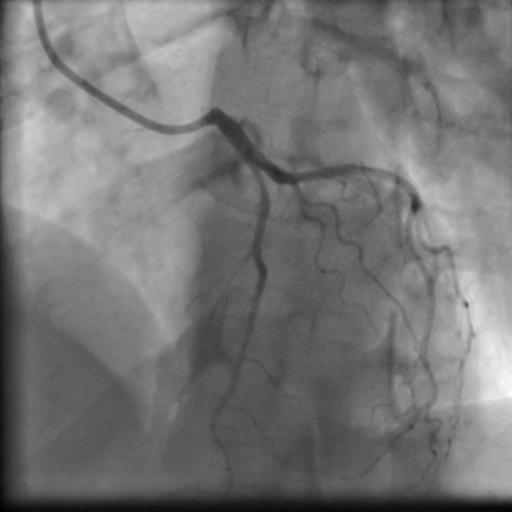Stenosis: (247, 167, 269, 202)
